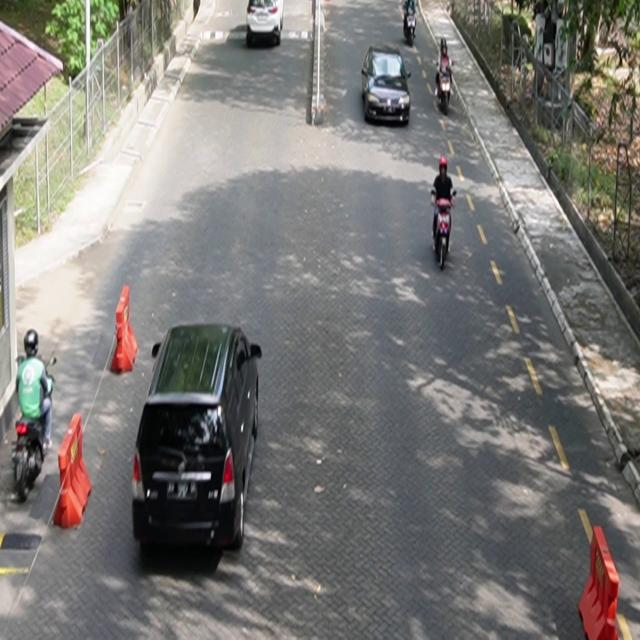car: (132, 323, 263, 553), (362, 45, 412, 127), (247, 1, 285, 48)
